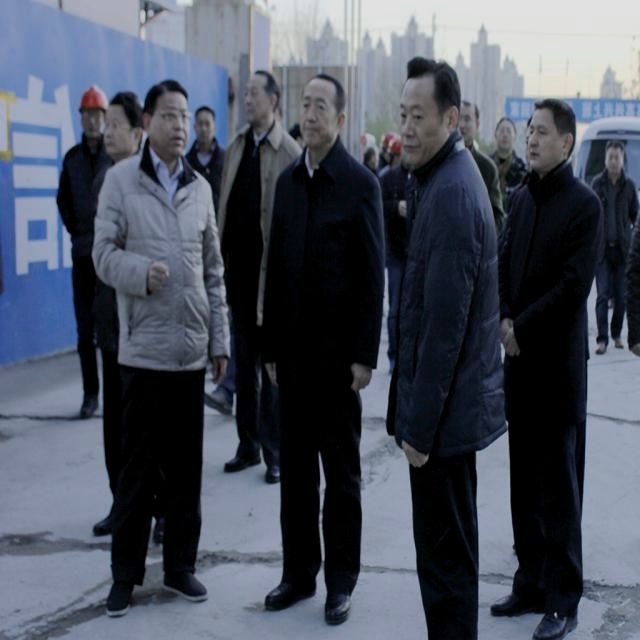Sin_Casco_Mascarrilla: (401, 55, 460, 168), (525, 98, 574, 173)
Sin_Chaleco: (267, 148, 382, 361), (111, 151, 214, 369)
